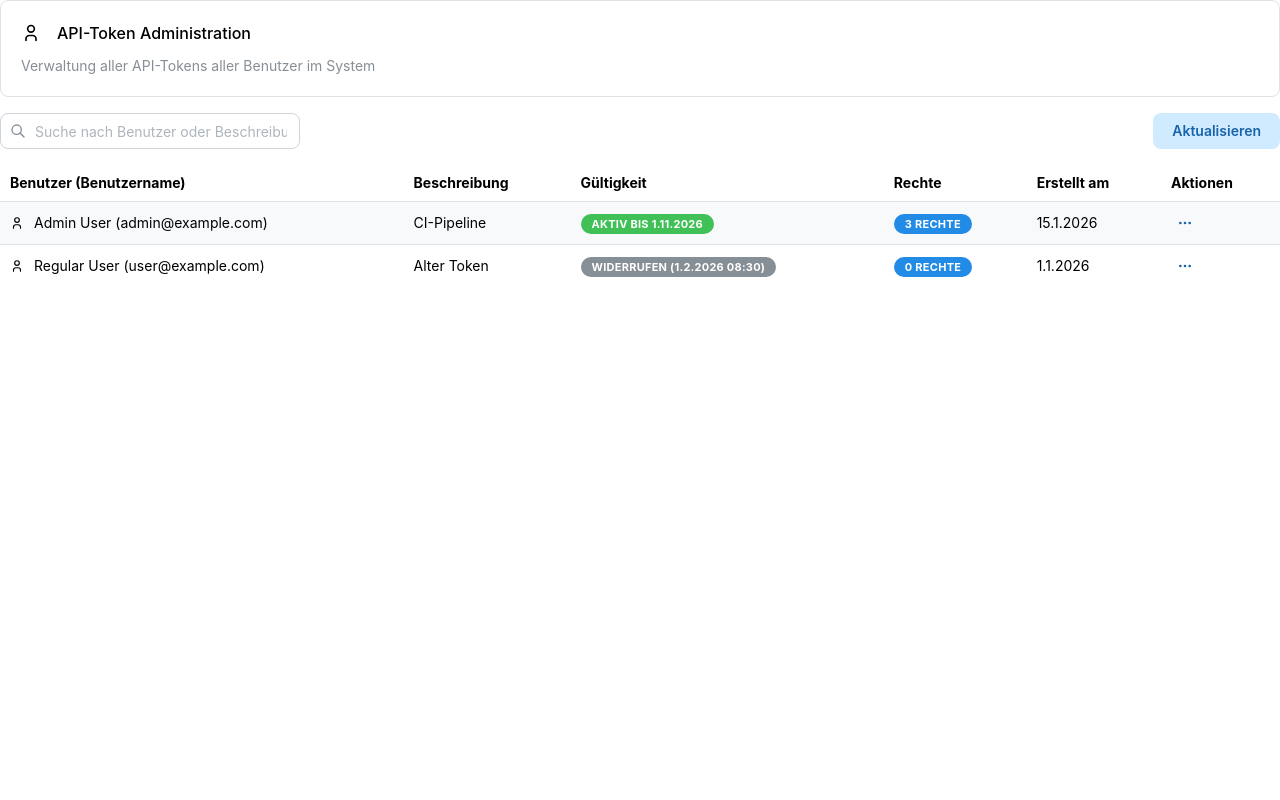
Test: ApiTokenAdminList › widerruft einen aktiven Token nach Bestätigung
expect the text "CI-Pipeline" is shown: met, box 404,201 -> 571,244
Click the button without text in the row of "Admin User" at (1185, 223), box 1171,209 -> 1199,237
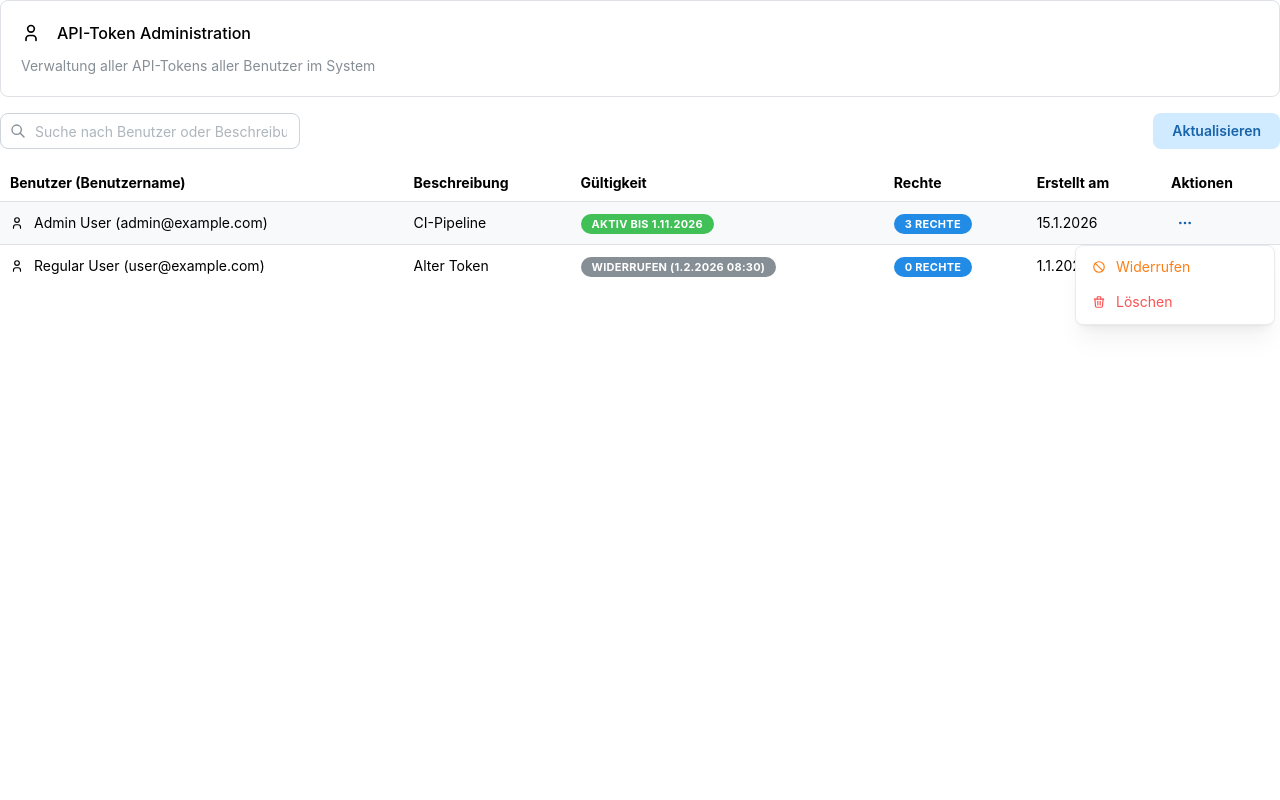
Click the menu item "Widerrufen" at (1175, 267), box 1080,250 -> 1270,285
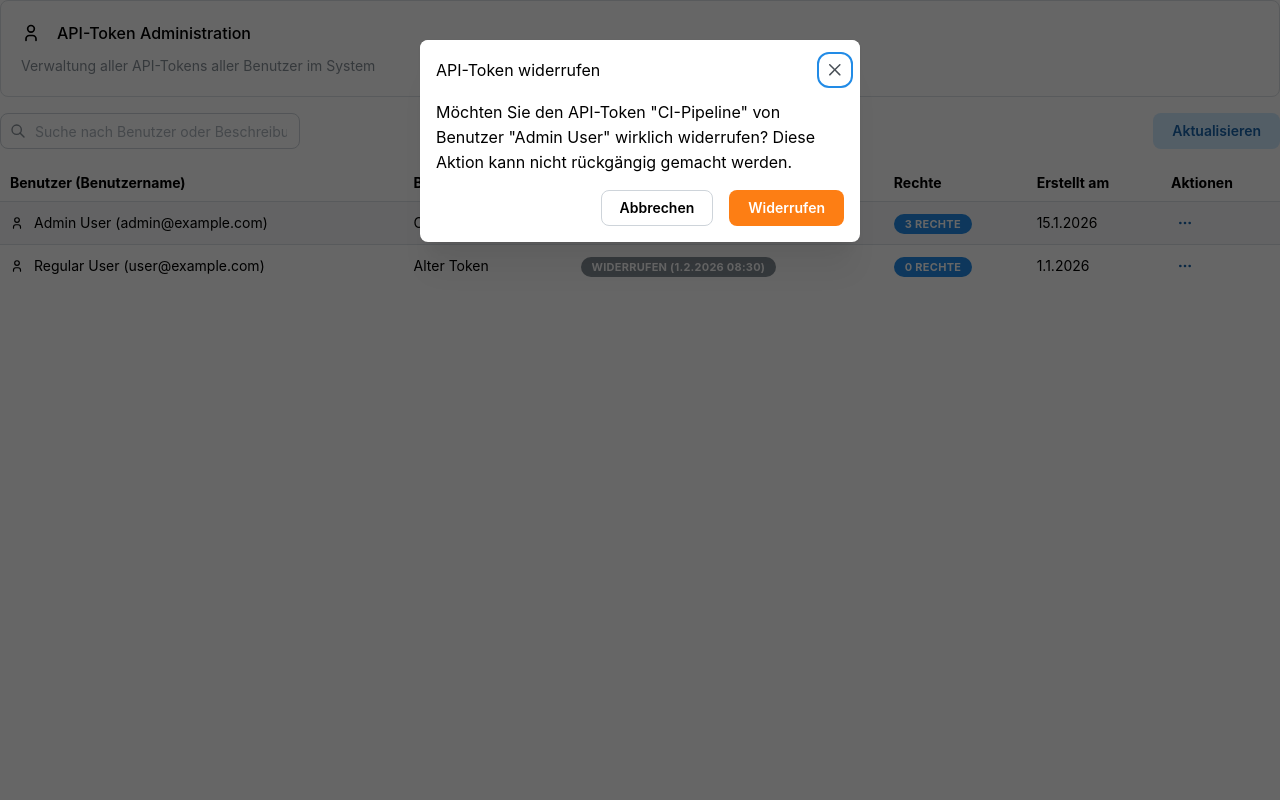
Click the button "Widerrufen" at (787, 208), box 729,190 -> 844,226
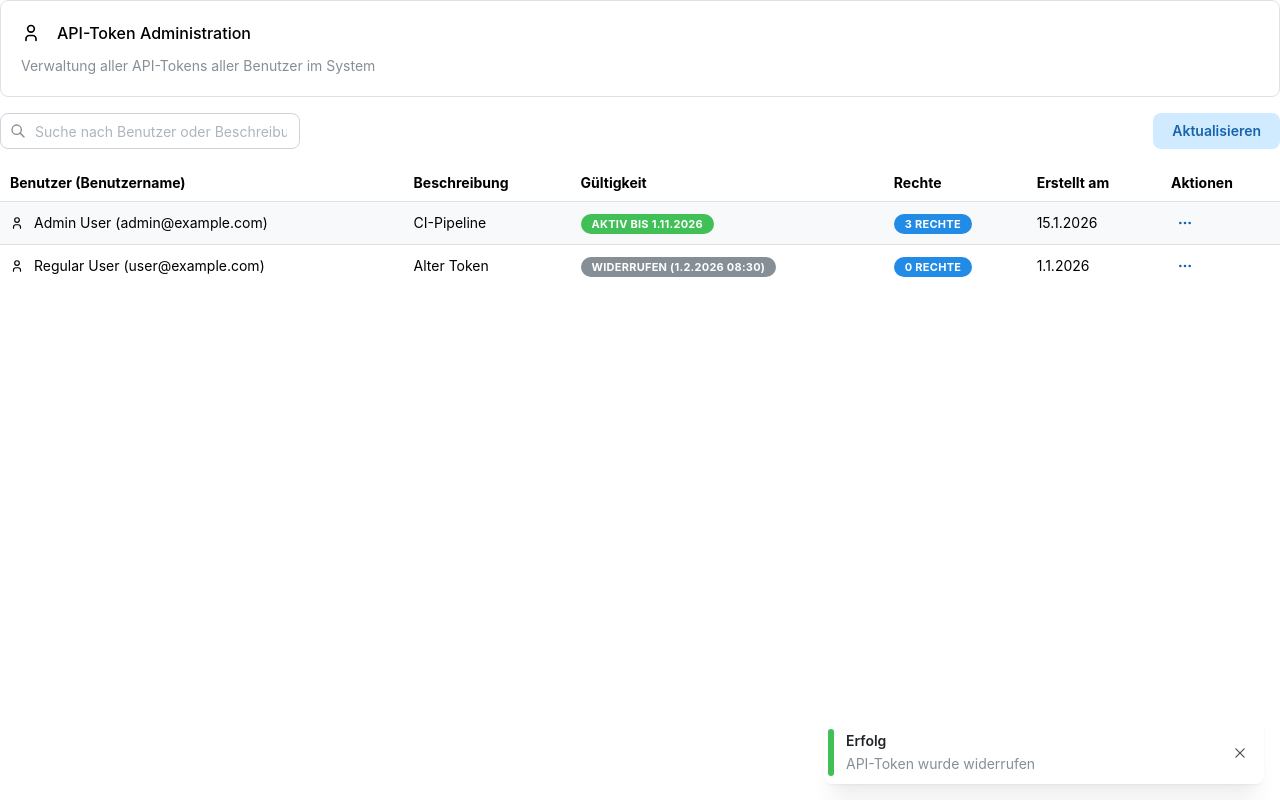
expect the text "API-Token wurde widerrufen" is shown: met, box 846,755 -> 1035,772
